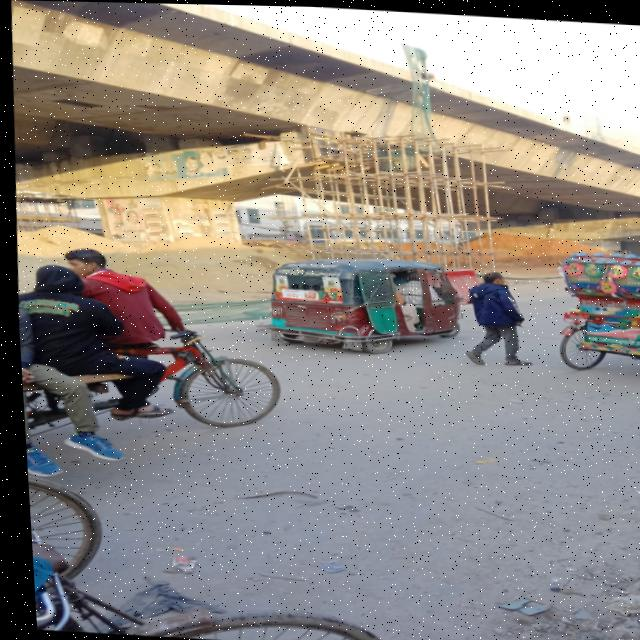cng: (248, 227, 513, 367)
